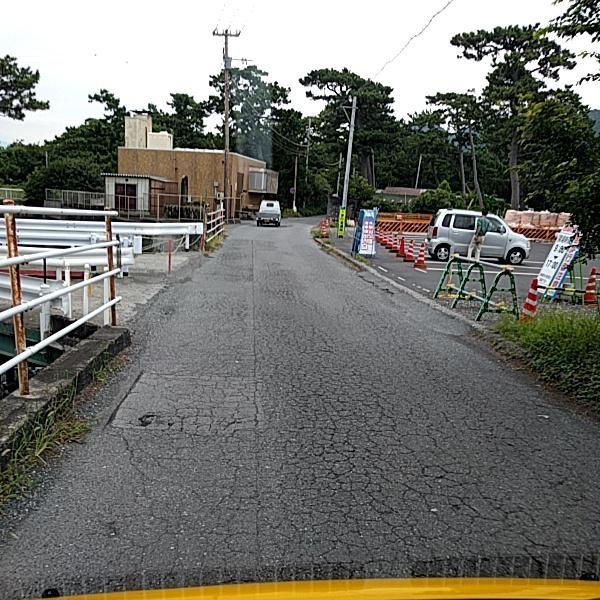pothole: (137, 412, 156, 428)
